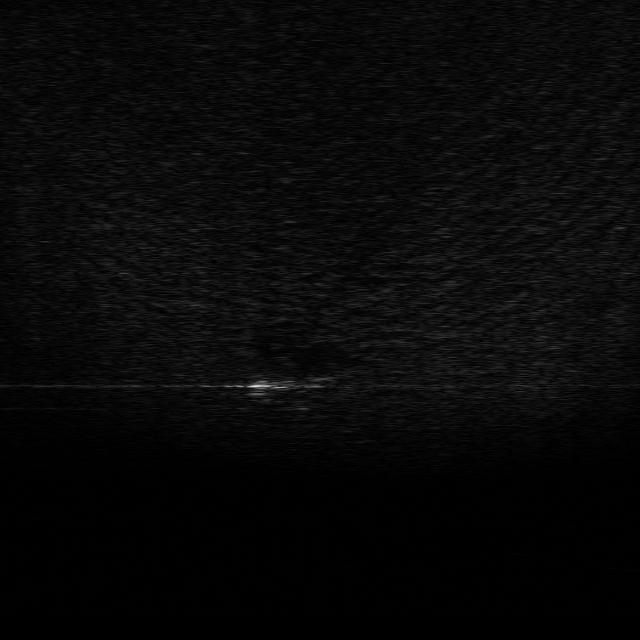plane: (241, 353, 339, 412)
